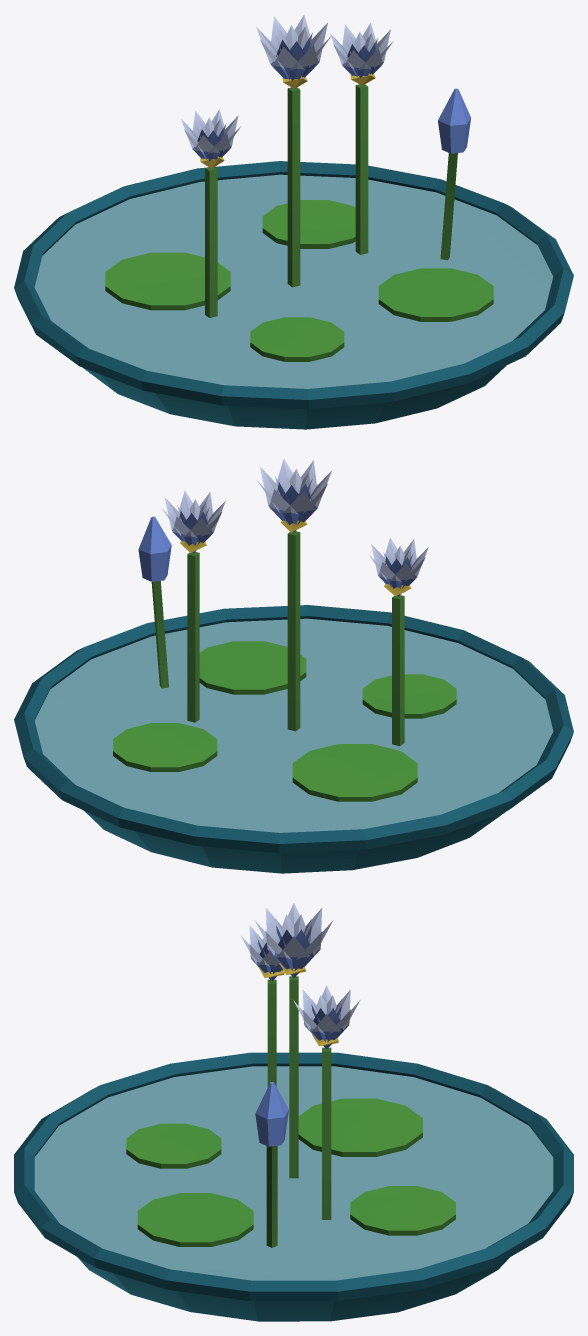
3 views of the same model, one above another, from view 1: azimuth 30°, elevation 25°; view 2: azimuth 150°, elevation 25°; view 3: azimuth 270°, elevation 25° (orthographic).
Parts seen in each view (by area): view 1: base; view 2: base; view 3: base.
Boxes of the visible parts, <box> form: base: <box>14,15,573,429</box>; base: <box>14,458,573,873</box>; base: <box>14,903,573,1321</box>.
Size of the model in its own units: 0.5126 by 0.3396 by 0.5126.
